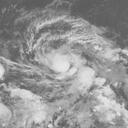cyclone: (30, 16, 106, 90)
